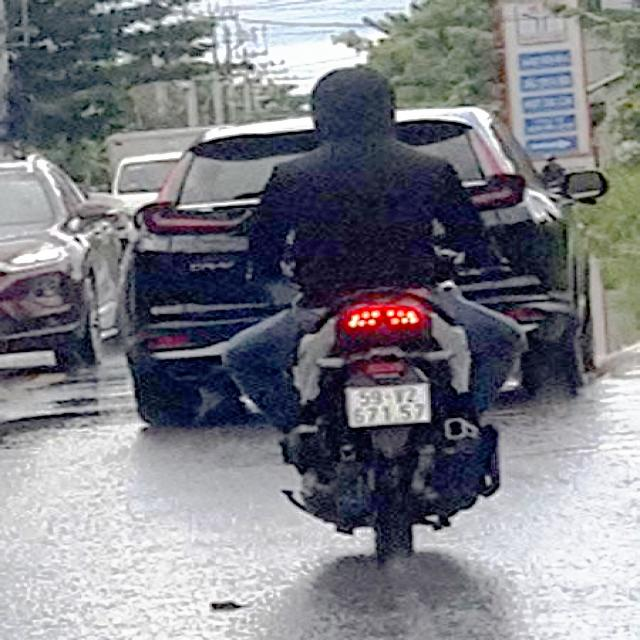license_plate: (351, 380, 435, 428)
